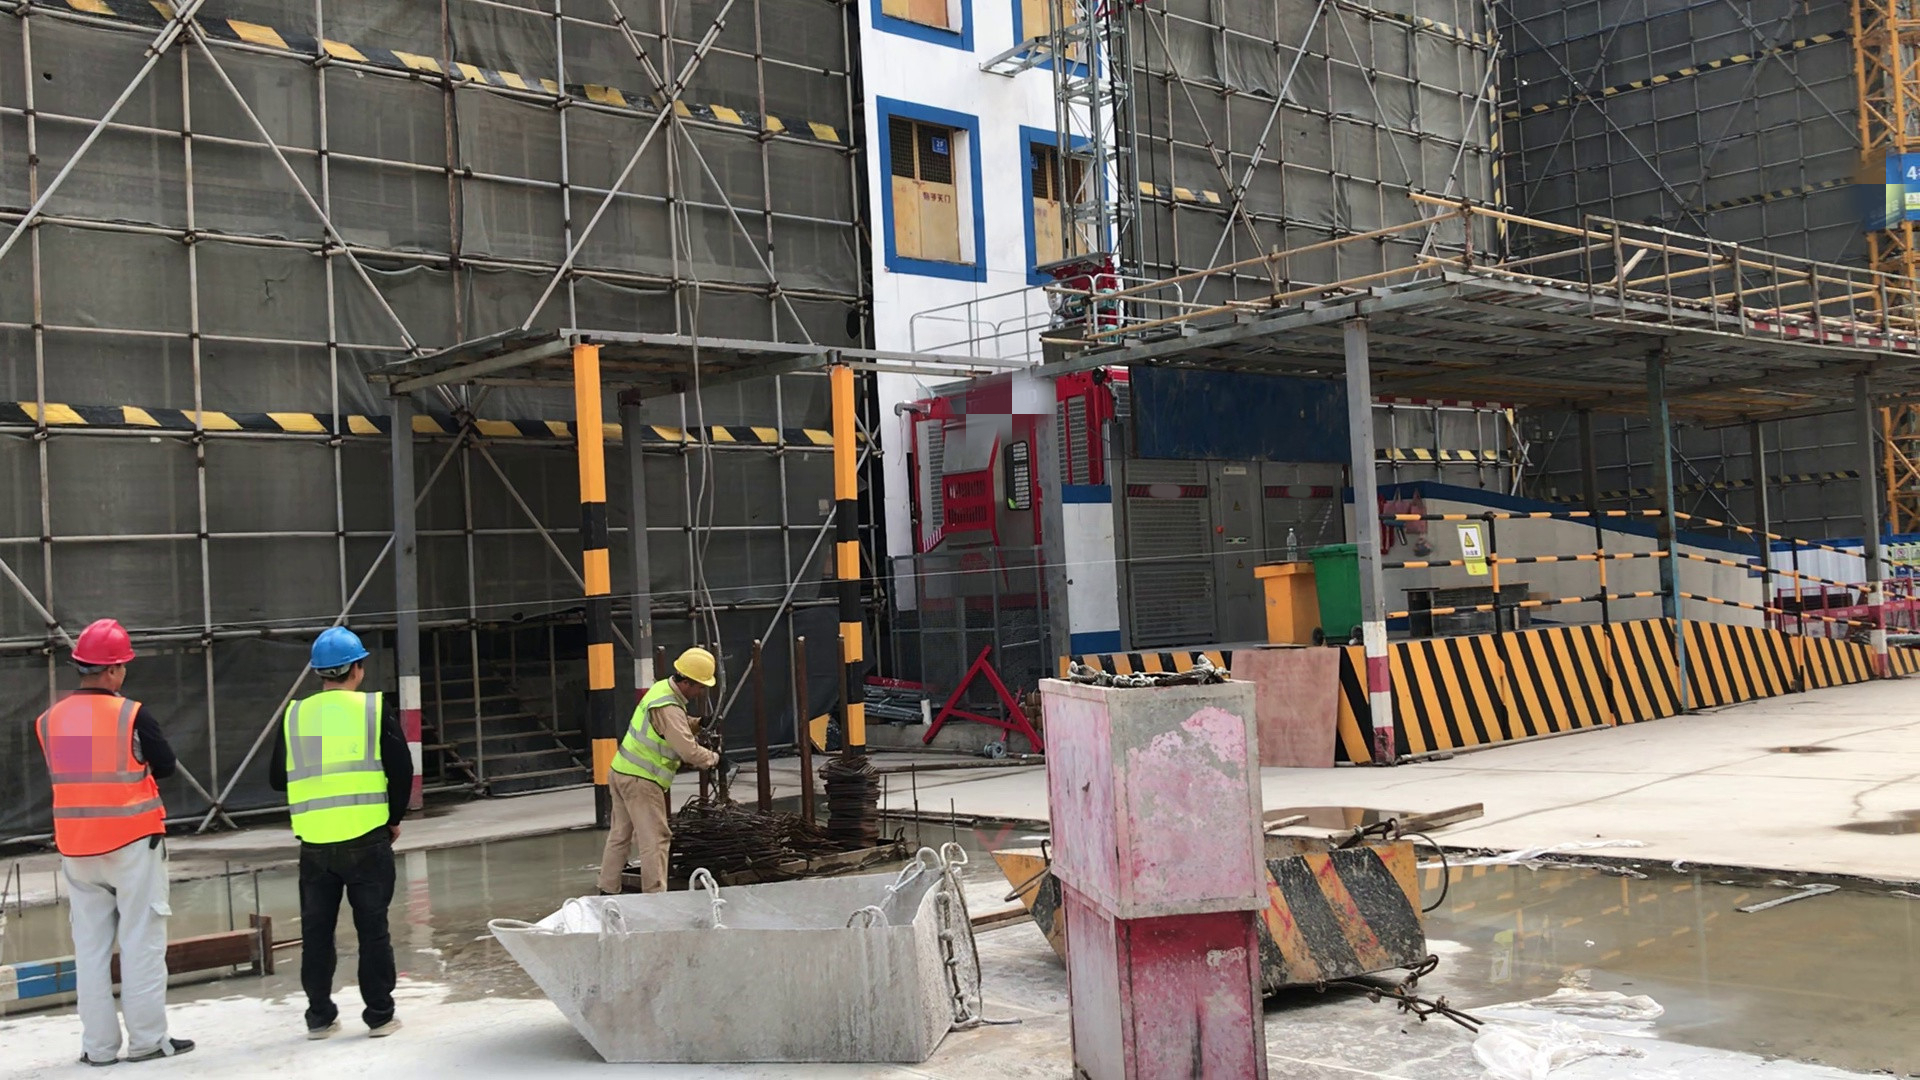fence: (1396, 492, 1920, 683)
helmet: (67, 620, 142, 677), (307, 626, 374, 675), (667, 651, 719, 697)
hopper: (482, 857, 1006, 1063), (995, 808, 1472, 1011)
person: (31, 613, 203, 1066), (270, 618, 415, 1047), (591, 643, 727, 891)
slogan: (1447, 513, 1501, 589)
vest: (31, 687, 175, 863), (283, 684, 396, 855), (607, 679, 689, 804)
